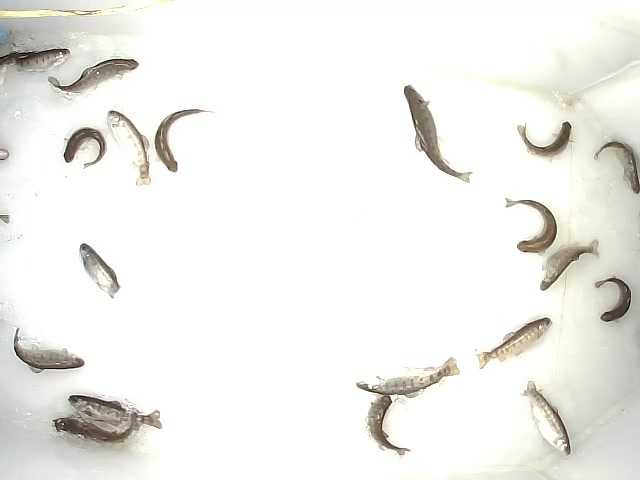fish: (403, 83, 474, 185), (354, 354, 462, 399), (153, 107, 218, 174), (474, 317, 554, 371), (519, 379, 572, 457), (47, 57, 141, 98), (105, 109, 152, 188), (67, 393, 164, 431), (12, 327, 87, 375), (503, 196, 559, 257), (51, 408, 142, 445), (540, 238, 601, 292), (365, 395, 414, 458), (515, 117, 575, 165), (78, 241, 123, 302), (593, 139, 640, 196), (61, 126, 107, 172), (593, 274, 633, 325), (1, 47, 72, 72)
